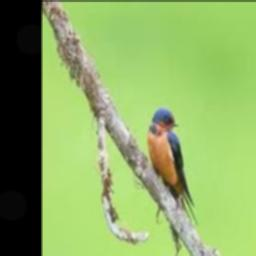Swallow: (147, 108, 198, 229)
